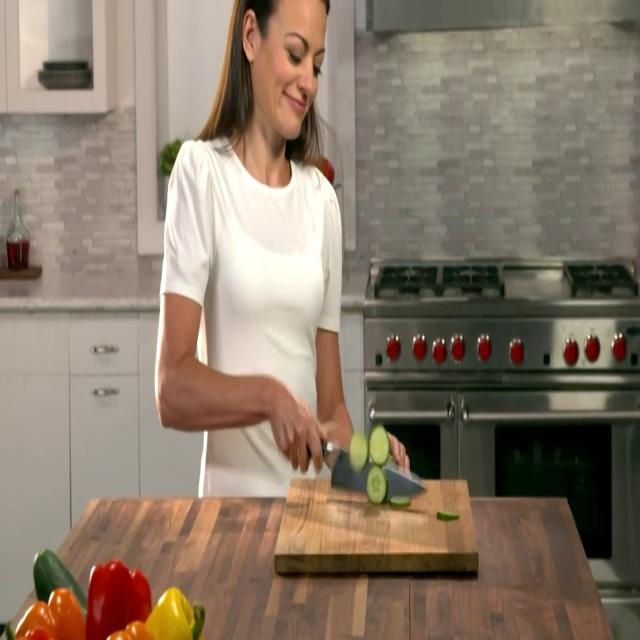Knife_Handle: (269, 374, 427, 496)
